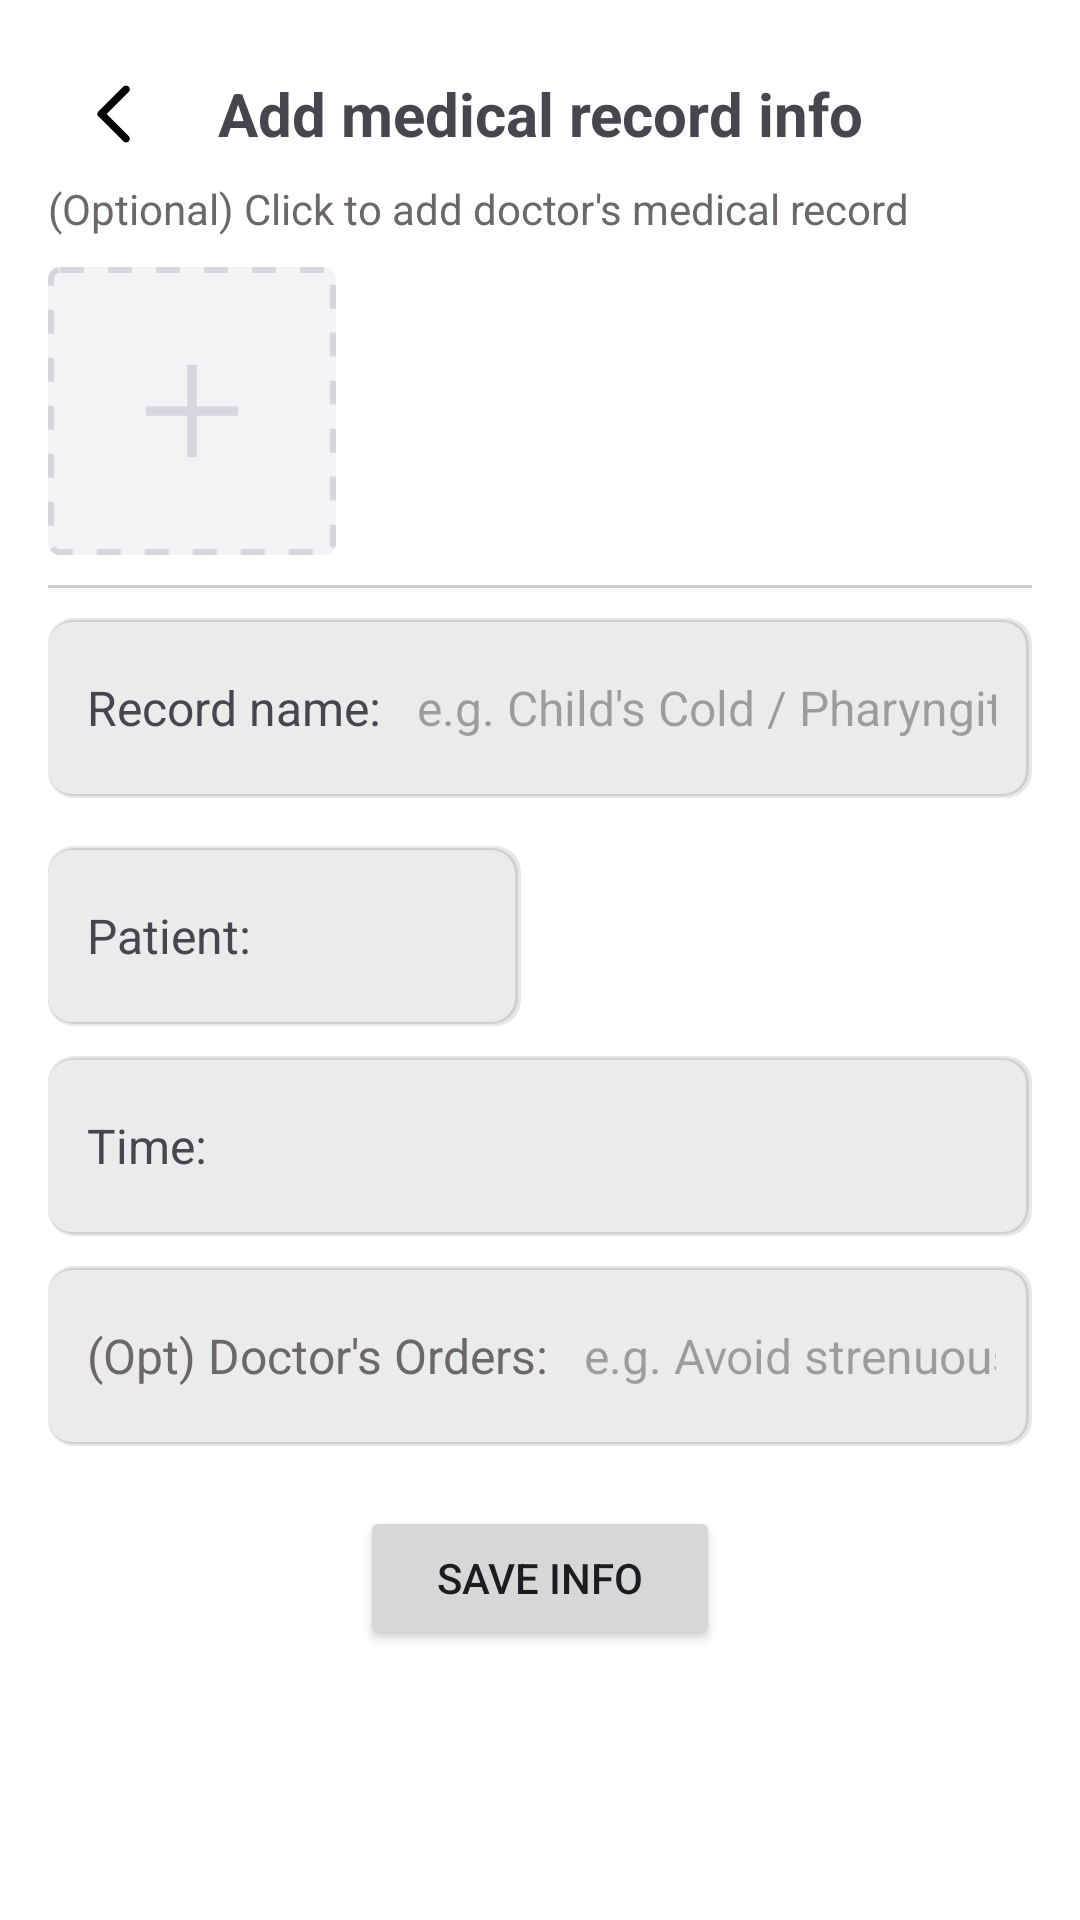

Where icons sit on this 1080*1920 app screen, as [left=x1, top=y1, right=x2, bottom=y2]:
Return: [left=97, top=85, right=130, bottom=143]
